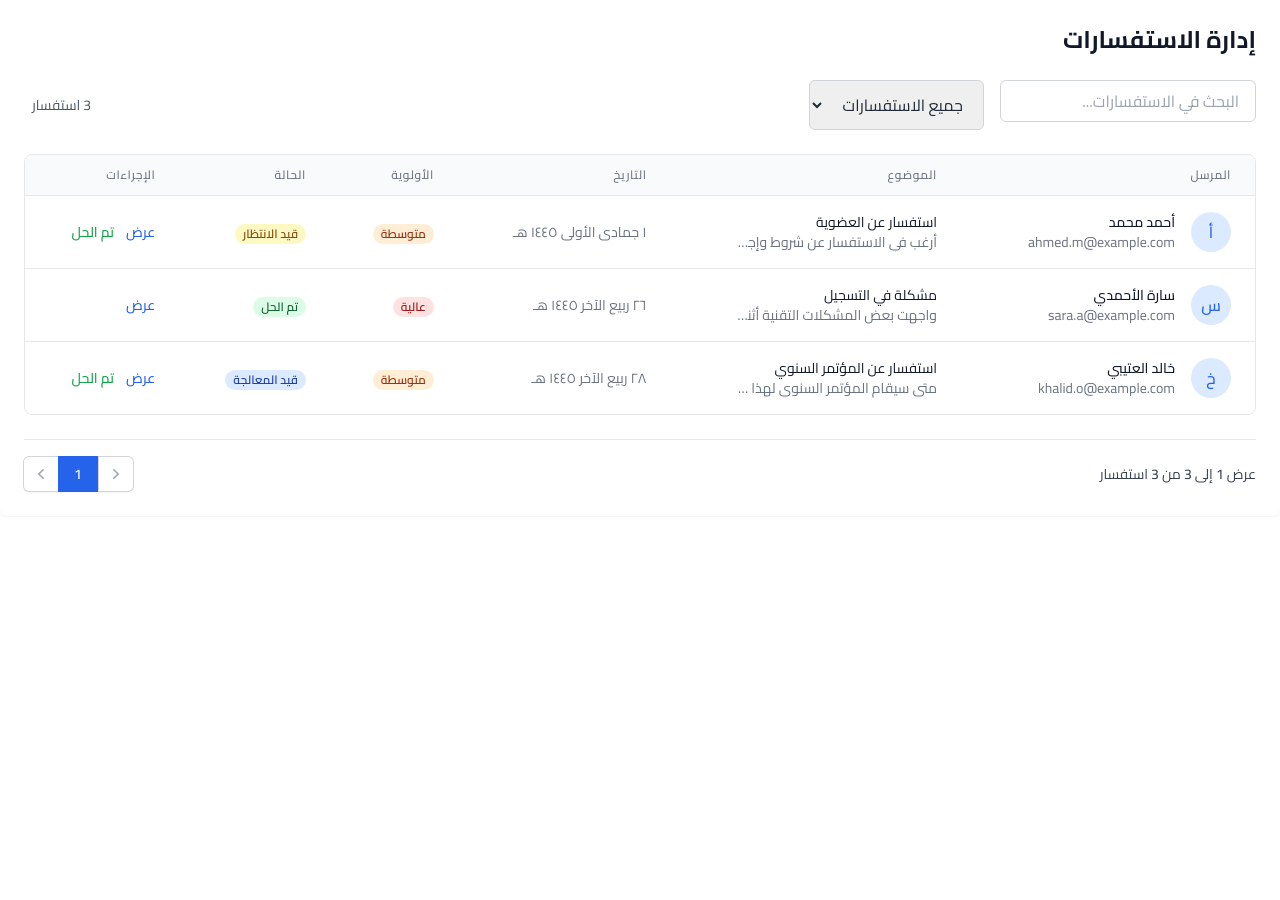
InquiryManagement Component › opens inquiry detail modal when view button is clicked
The width and height of the screenshot is (1280, 900).
Expected: the text "أحمد محمد" is shown, [1109, 209, 1175, 235]
Click the button "عرض" in the row of "أحمد محمد": coordinates (141, 232) [126, 222, 155, 242]
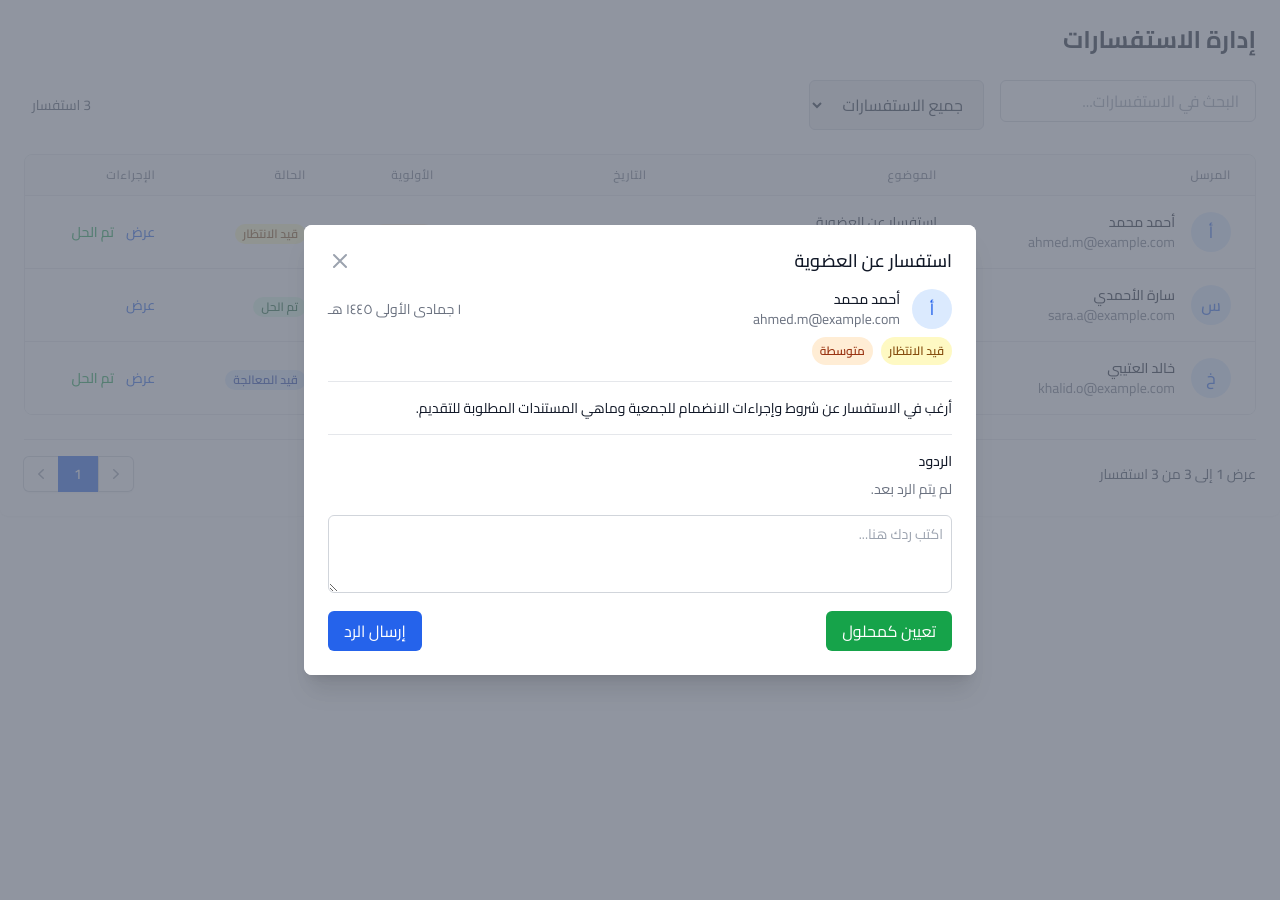
Expected: the text "استفسار عن العضوية" is shown, [816, 209, 937, 235]
Now the text "أرغب في الاستفسار عن شروط وإجراءات الانضمام للجمعية وماهي المستندات المطلوبة للتقديم." is shown, box [416, 395, 952, 421]
